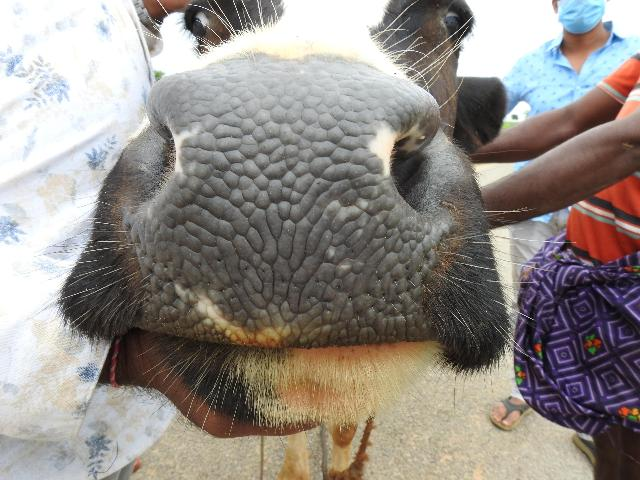Muzzle: (165, 84, 411, 326)
